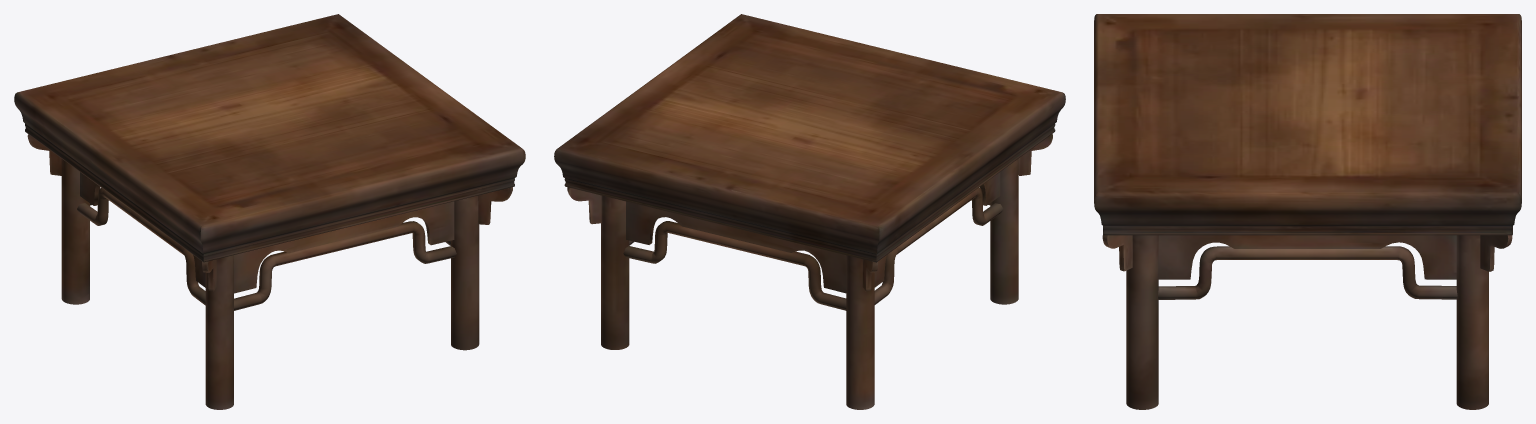
Rendered from chinese_tea_table.glb.
3 renders of one model, left to right at view 1: azimuth 30°, elevation 25°; view 2: azimuth 150°, elevation 25°; view 3: azimuth 270°, elevation 25°, orthographic. The views are drawn at different scales.
Parts seen in each view (by area): view 1: chinese_tea_table; view 2: chinese_tea_table; view 3: chinese_tea_table.
Boxes of the visible parts, bbox=[...] form: chinese_tea_table: bbox=[14, 14, 525, 409]; chinese_tea_table: bbox=[554, 14, 1065, 409]; chinese_tea_table: bbox=[1094, 14, 1521, 409].
Bounding box in the file's own units: 0.8413 × 0.4987 × 0.8357.
1 material, 1 textured.
